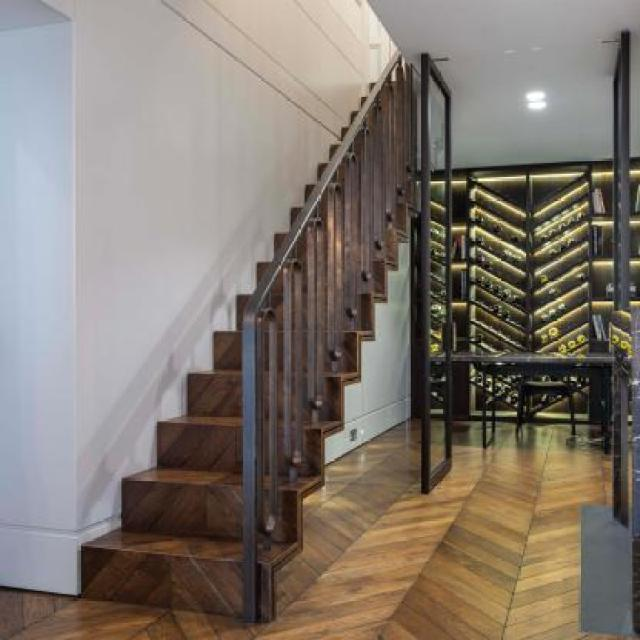stair: (72, 42, 438, 607)
